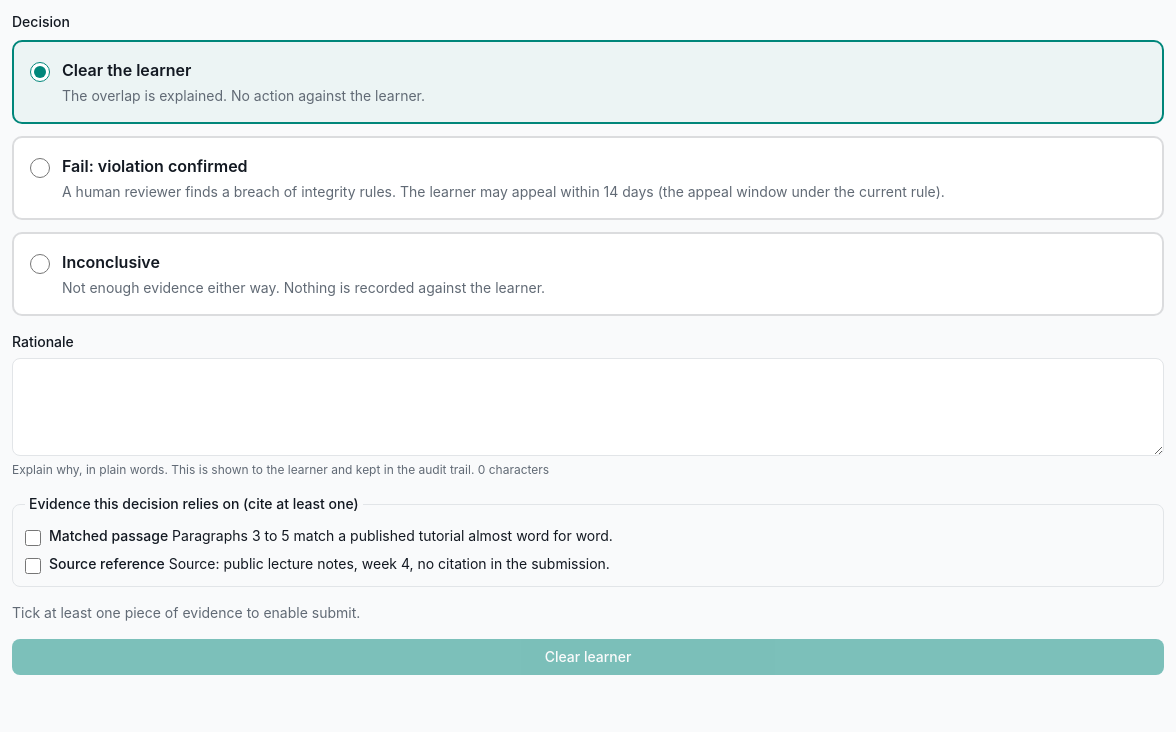
Test: DecisionForm › shows a plain character count for Clear, with no confirmed-violation minimum
The width and height of the screenshot is (1176, 732).
Type "Short." into the text box labelled "Rationale" at [588, 407], box [12,358,1164,456]
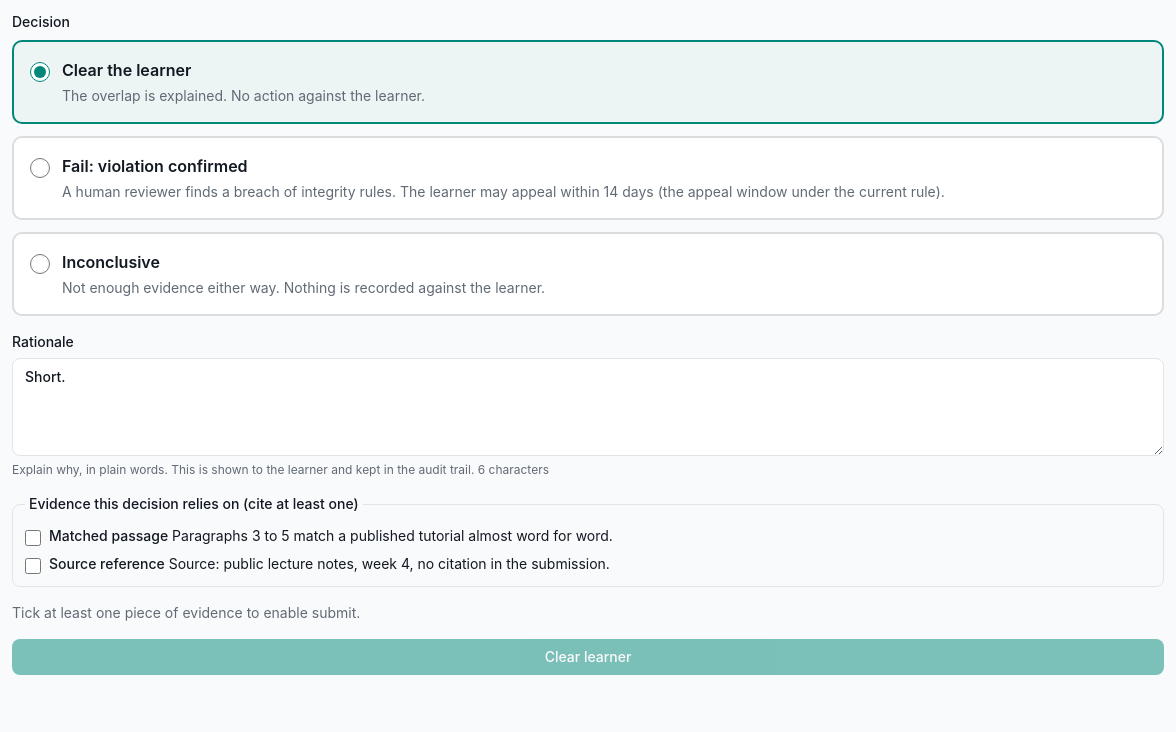
Expected: the text "6 characters" is shown, [478,462,549,477]
